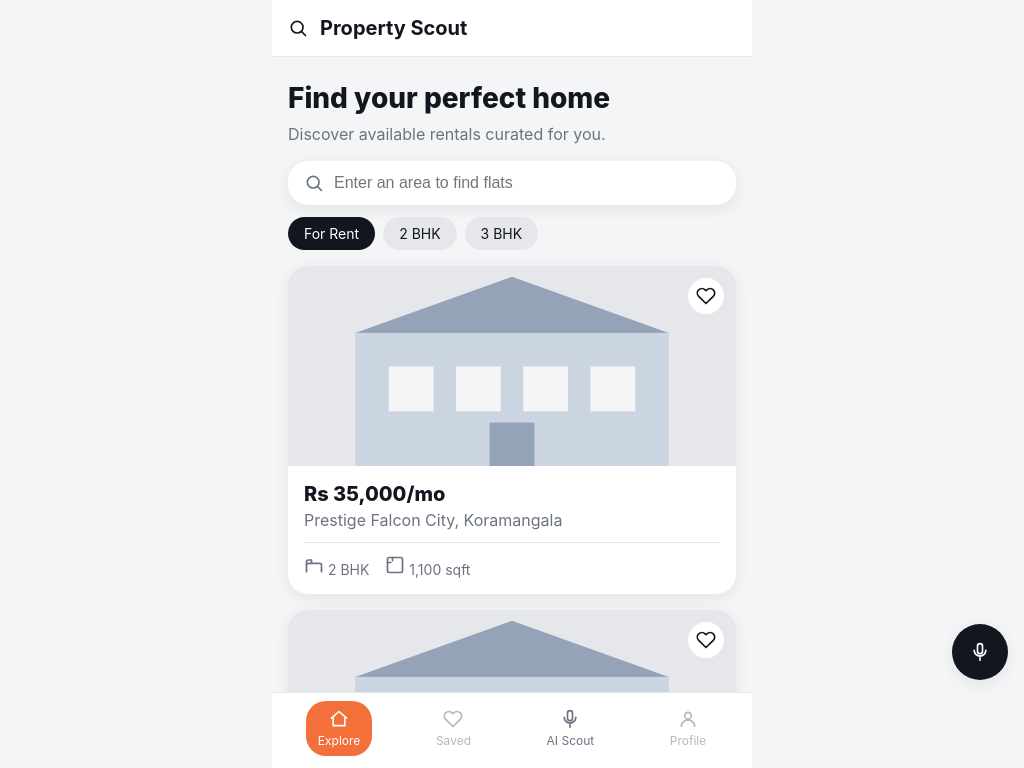
Home (companion UI shell) › removes a card immediately when its heart button is clicked, and posts the removal
Click the button named "remove prestige falcon city from shortlist" at [706, 296], box [688,278,724,314]
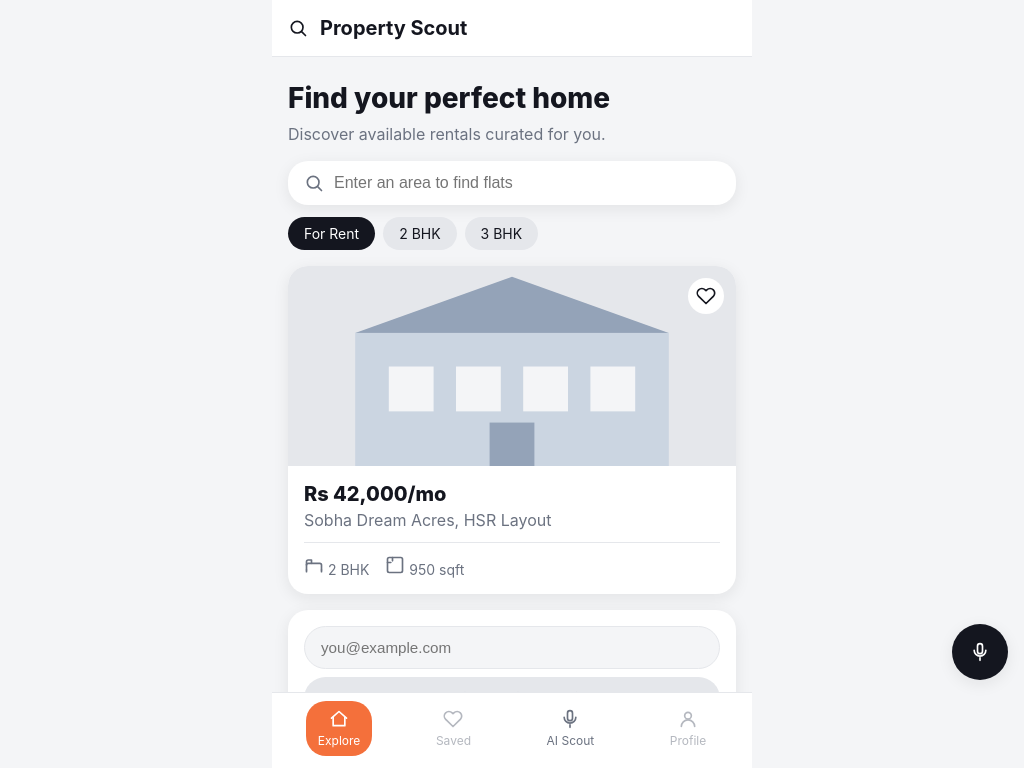
Now the number of elements with test id "property-card" is 1, box [288,266,736,594]
